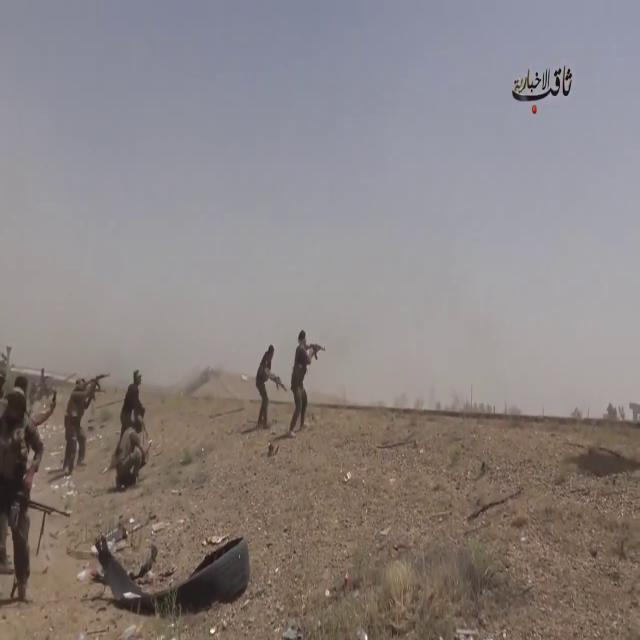long weapon: (303, 338, 331, 369), (84, 370, 114, 396), (264, 369, 288, 400)
